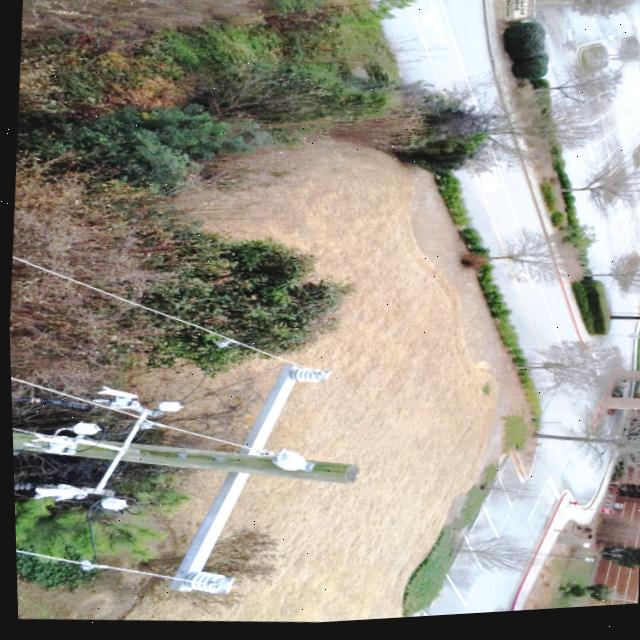poles: (10, 367, 354, 595)
wires: (10, 258, 282, 364), (9, 377, 249, 454), (13, 549, 194, 585), (153, 575, 163, 580)
